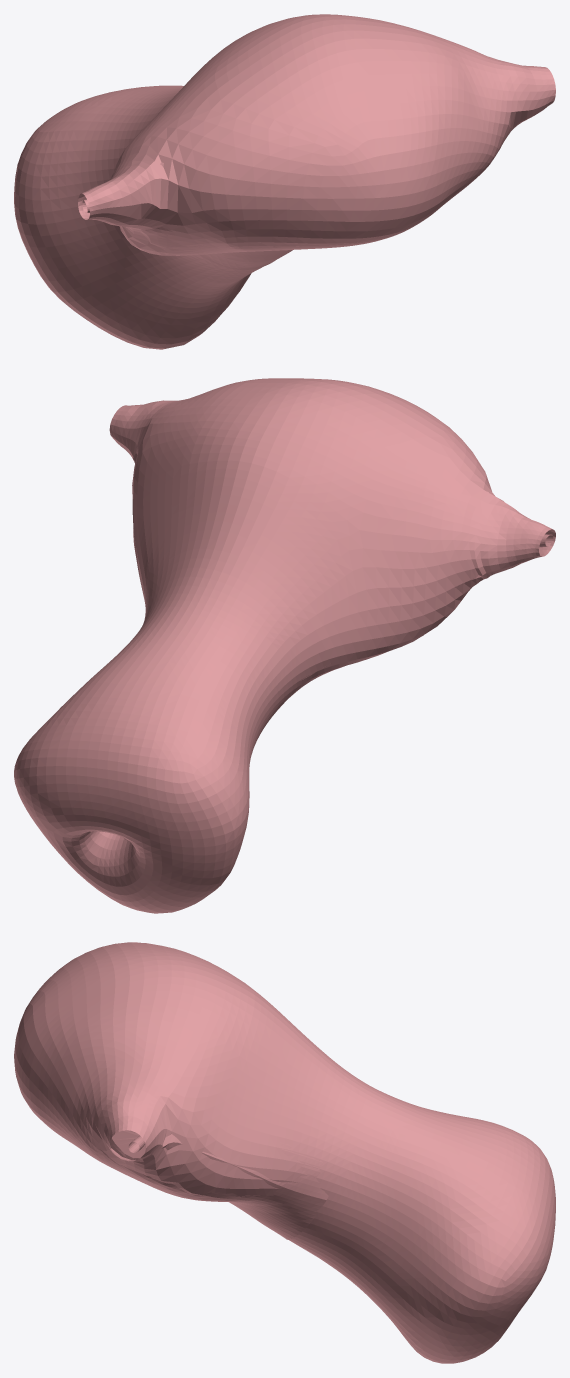
The model's file is uterus.glb.
The picture shows the model from 3 angles, top to bottom: view 1: azimuth 30°, elevation 25°; view 2: azimuth 150°, elevation 25°; view 3: azimuth 270°, elevation 25°; orthographic projection. The views are drawn at different scales.
Parts seen in each view (by area): view 1: uterus; view 2: uterus; view 3: uterus.
Boxes of the visible parts, x1,y1,x2,y2 form: uterus: (14,14,555,349); uterus: (14,378,555,913); uterus: (14,942,555,1363).
Size of the model in its own units: 0.0525 by 0.047 by 0.0587.
